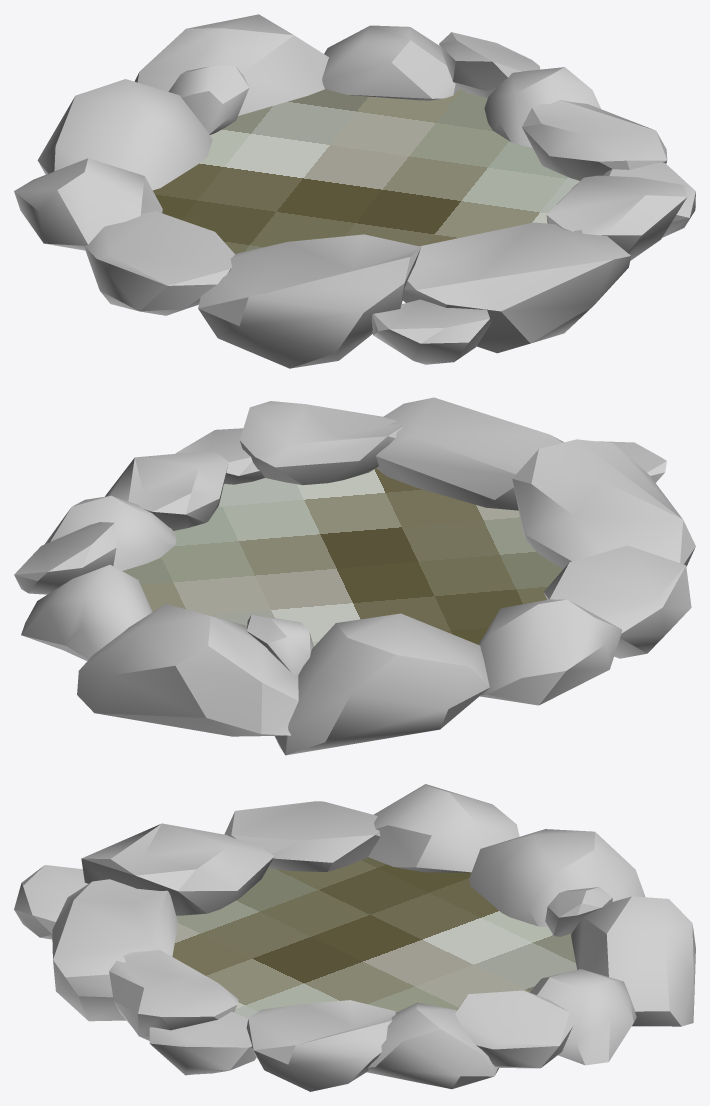
The model's file is GardenPool01.fbx.
The picture shows the model from 3 angles, top to bottom: view 1: azimuth 30°, elevation 25°; view 2: azimuth 150°, elevation 25°; view 3: azimuth 270°, elevation 25°; orthographic projection. The views are drawn at different scales.
Parts seen in each view (by area): view 1: GardenPool01; view 2: GardenPool01; view 3: GardenPool01.
Part boxes in pixels (bbox=[...]): GardenPool01: bbox=[14, 14, 695, 368]; GardenPool01: bbox=[14, 397, 695, 755]; GardenPool01: bbox=[14, 784, 695, 1091].
Size of the model in its own units: 2.36 by 0.4783 by 2.69.
